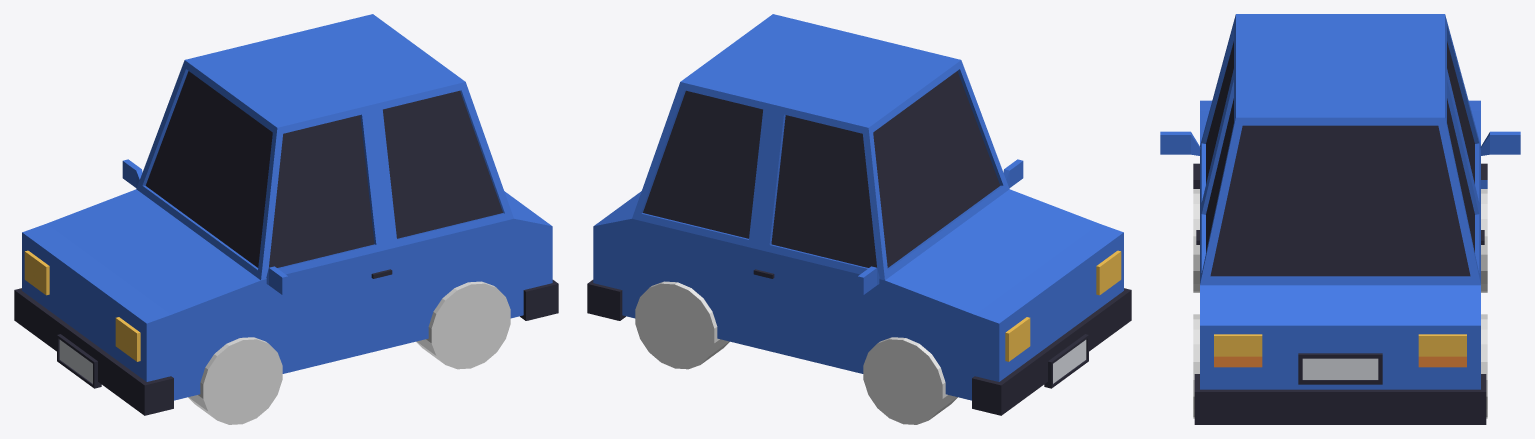
The model's file is Kolca.fbx.
3 renders of one model, left to right at view 1: azimuth 30°, elevation 25°; view 2: azimuth 150°, elevation 25°; view 3: azimuth 270°, elevation 25°, orthographic. The views are drawn at different scales.
Visible parts, largest first — view 1: Cube, Cylinder.001, Cylinder, Cube.002; view 2: Cube, Cylinder.001, Cylinder, Cube.002; view 3: Cube, Cube.005, Cylinder, Cylinder.001.
Part boxes in pixels (left/top/right/bottom): Cube: left=14, top=14, right=558, bottom=415; Cylinder.001: left=416, top=281, right=510, bottom=369; Cylinder: left=188, top=337, right=282, bottom=424; Cube.002: left=24, top=250, right=140, bottom=388; Cube: left=587, top=14, right=1131, bottom=415; Cylinder.001: left=635, top=281, right=729, bottom=369; Cylinder: left=863, top=337, right=957, bottom=424; Cube.002: left=1005, top=250, right=1121, bottom=388; Cube: left=1160, top=14, right=1520, bottom=424; Cube.005: left=1214, top=334, right=1466, bottom=384; Cylinder: left=1193, top=189, right=1487, bottom=292; Cylinder.001: left=1193, top=314, right=1487, bottom=418.
Bounding box in the file's own units: 388 × 238 × 256.
